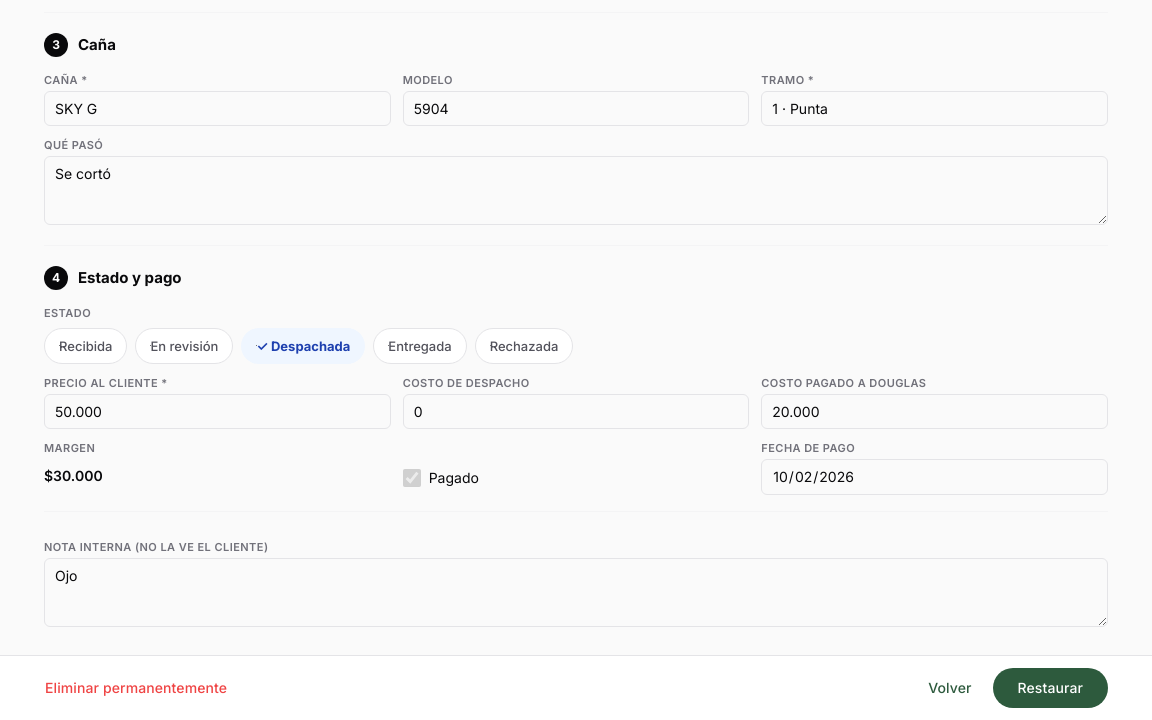
Test: GarantiaFicha — eliminar, restaurar y conflicto › si borrar falla, muestra el error y sigue en la página
(page scrolled)
Click the button "Eliminar permanentemente" at (136,688), box left=32, top=668, right=240, bottom=708
(page scrolled)
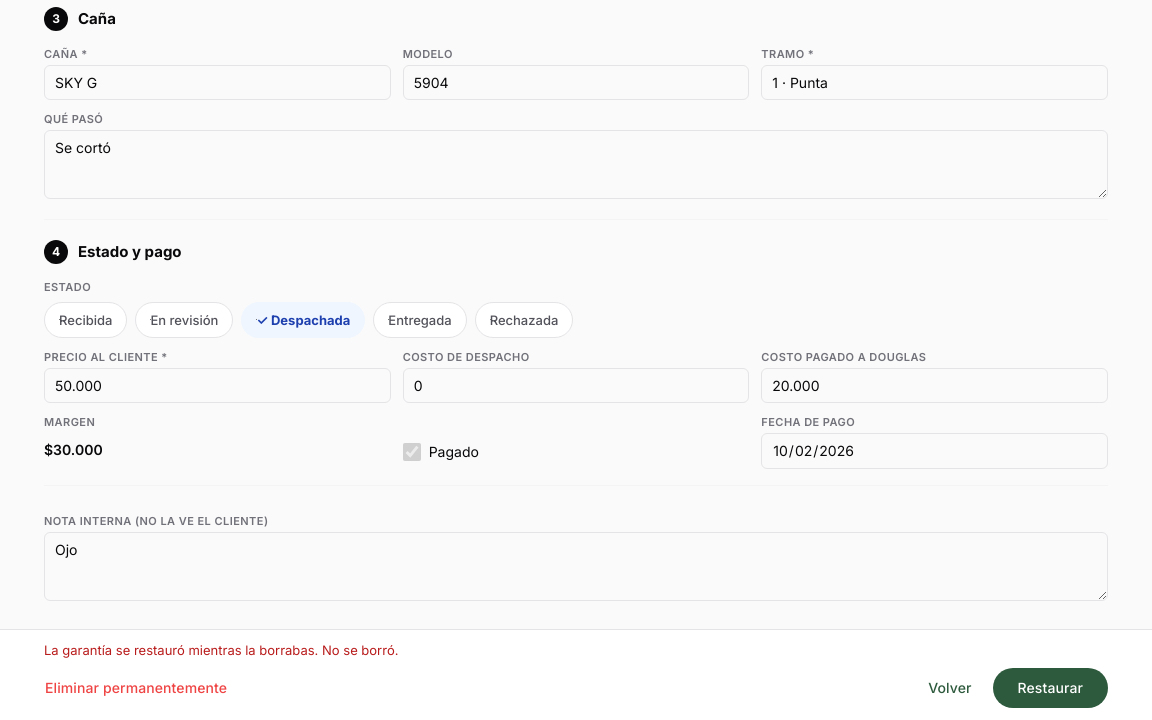
Result: the message "La garantía se restauró mientras la borrabas. No se borró." is shown at left=44, top=642, right=398, bottom=658
